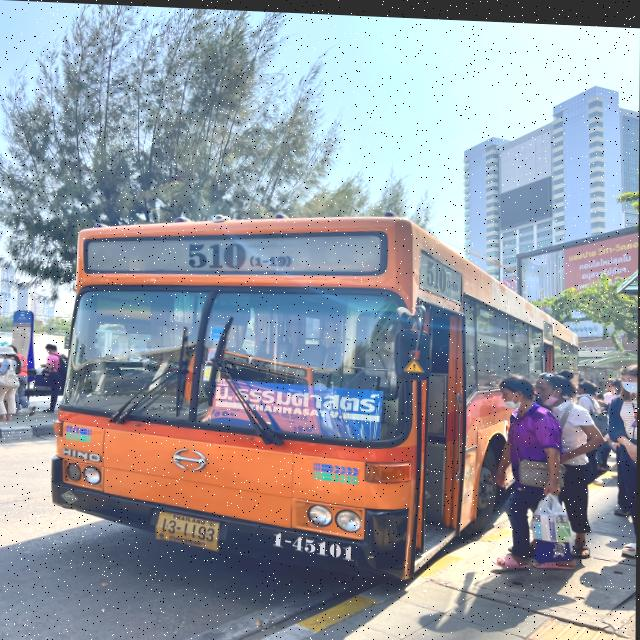BMTA-bus: (50, 214, 577, 580)
Bus Line Number: (176, 236, 298, 274)
Bus Side Number: (267, 528, 357, 560)
Destination Sign: (214, 378, 382, 441)
